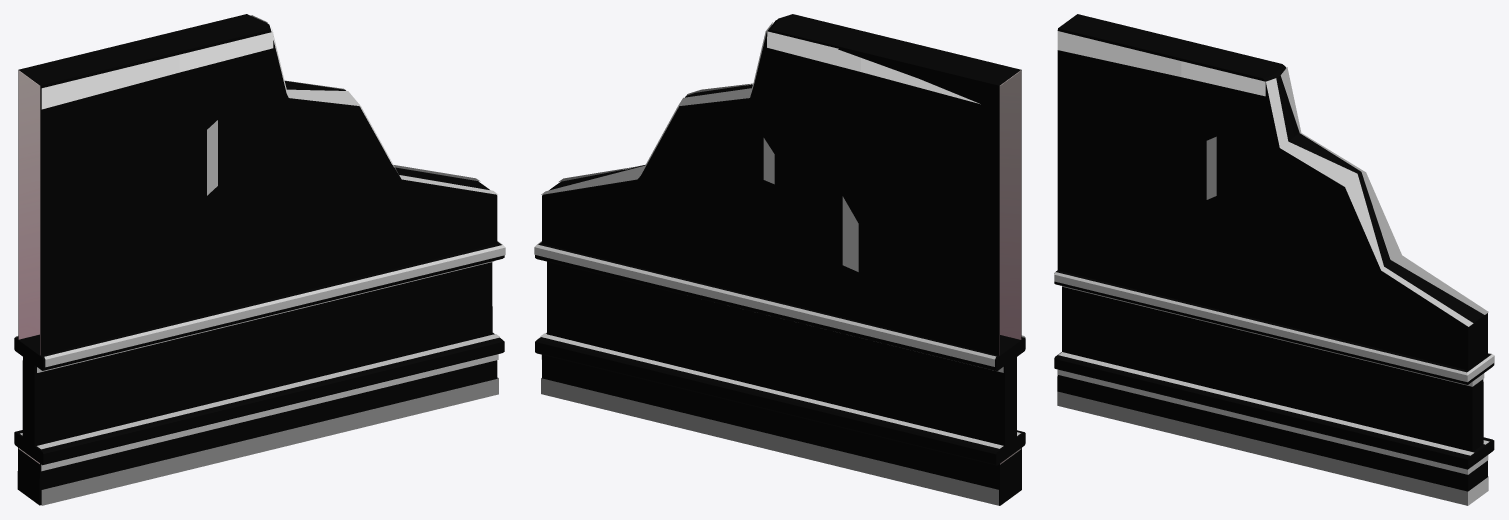
File: Rooms_Paradise_Wall01_Broken_Art.fbx
3 renders of one model, left to right at view 1: azimuth 30°, elevation 25°; view 2: azimuth 150°, elevation 25°; view 3: azimuth 330°, elevation 25°, orthographic. The views are drawn at different scales.
Visible parts, largest first — view 1: Rooms_Paradise_Wall01_Broken_Outline, Rooms_Paradise_Wall01_Broken_Shadows, Rooms_Paradise_Wall01_Broken_Art; view 2: Rooms_Paradise_Wall01_Broken_Outline, Rooms_Paradise_Wall01_Broken_Shadows, Rooms_Paradise_Wall01_Broken_Art; view 3: Rooms_Paradise_Wall01_Broken_Outline, Rooms_Paradise_Wall01_Broken_Shadows.
Part boxes in pixels (left/top/right/bottom): Rooms_Paradise_Wall01_Broken_Outline: left=14, top=14, right=504, bottom=505; Rooms_Paradise_Wall01_Broken_Shadows: left=15, top=15, right=505, bottom=505; Rooms_Paradise_Wall01_Broken_Art: left=18, top=70, right=40, bottom=464; Rooms_Paradise_Wall01_Broken_Outline: left=535, top=14, right=1025, bottom=505; Rooms_Paradise_Wall01_Broken_Shadows: left=534, top=17, right=1025, bottom=505; Rooms_Paradise_Wall01_Broken_Art: left=999, top=70, right=1021, bottom=464; Rooms_Paradise_Wall01_Broken_Outline: left=1054, top=14, right=1494, bottom=491; Rooms_Paradise_Wall01_Broken_Shadows: left=1054, top=31, right=1494, bottom=505.
Bounding box in the file's own units: 404 × 351 × 46.11.
